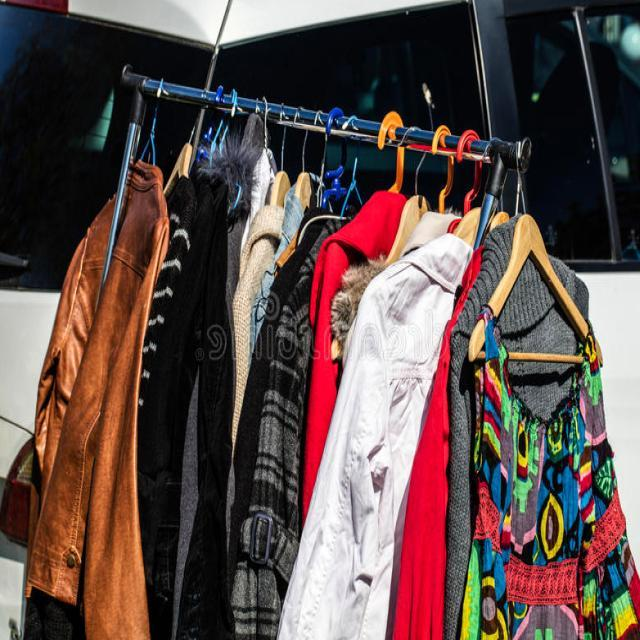clothes: (226, 181, 412, 640), (339, 247, 554, 640), (24, 160, 160, 640), (115, 170, 239, 640), (481, 348, 623, 640)
